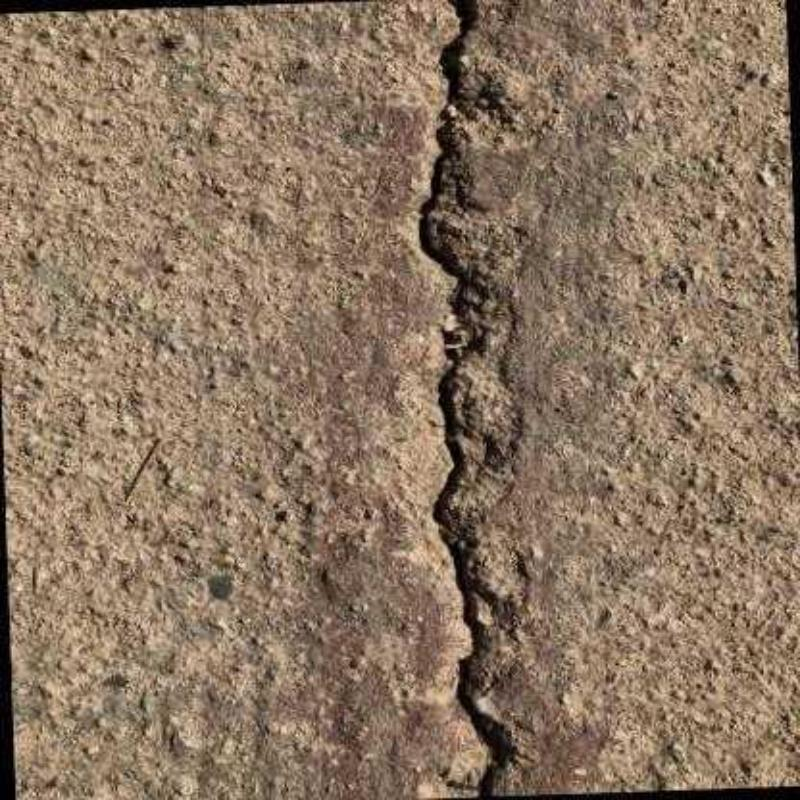pothole: (416, 0, 504, 798)
